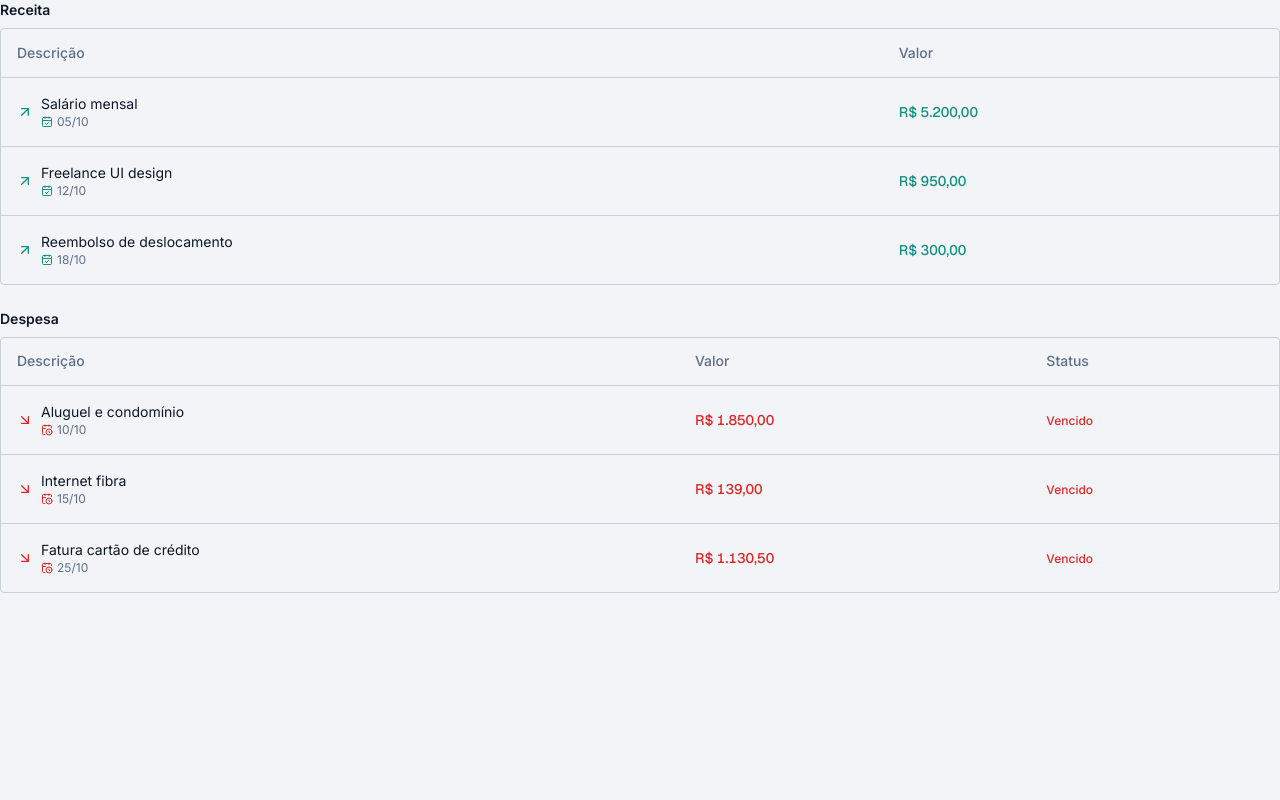
Test case: ListaLancamentos — marcar despesa como paga › clicar numa linha de despesa abre o menu de acoes com a descricao
The image size is (1280, 800).
Click the text "Aluguel e condomínio" at (113, 412), box x1=41 y1=402 x2=184 y2=422
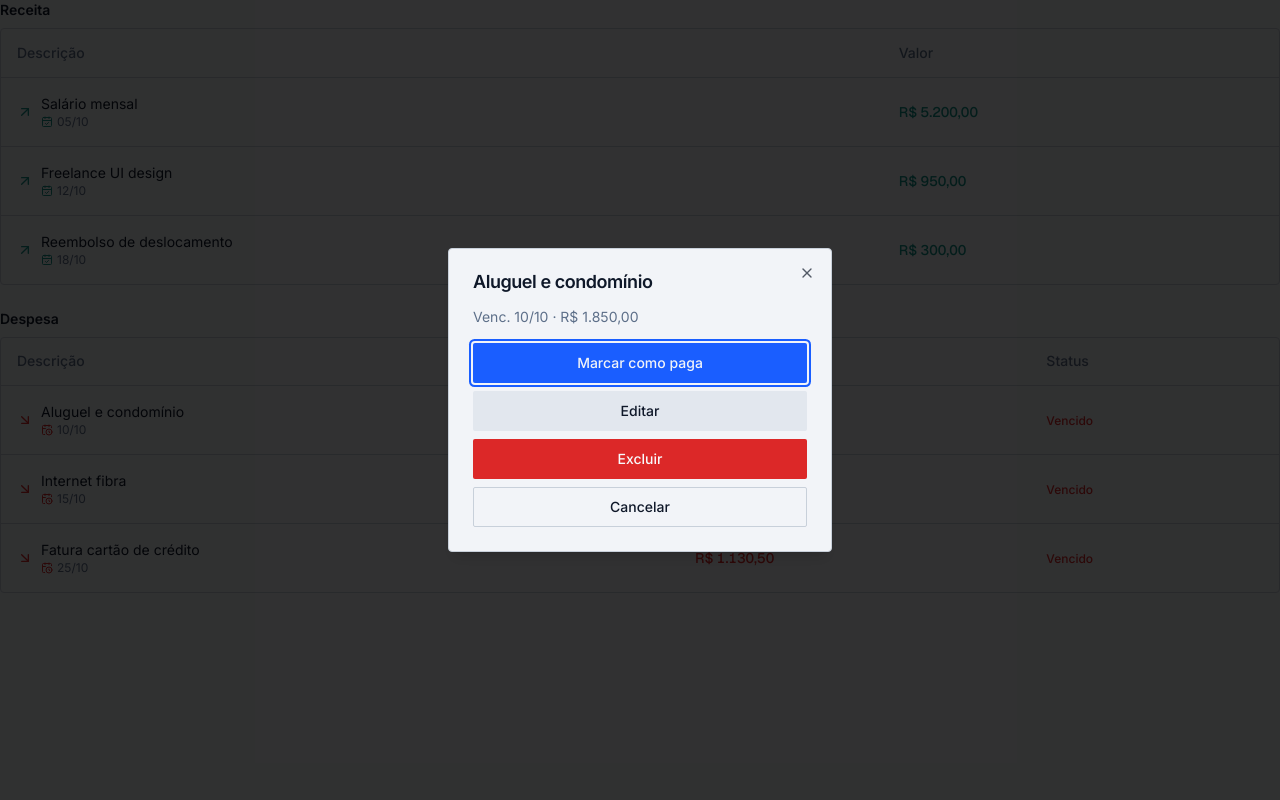
expect the button "Marcar como paga" is shown: met, box x1=473 y1=343 x2=807 y2=383
